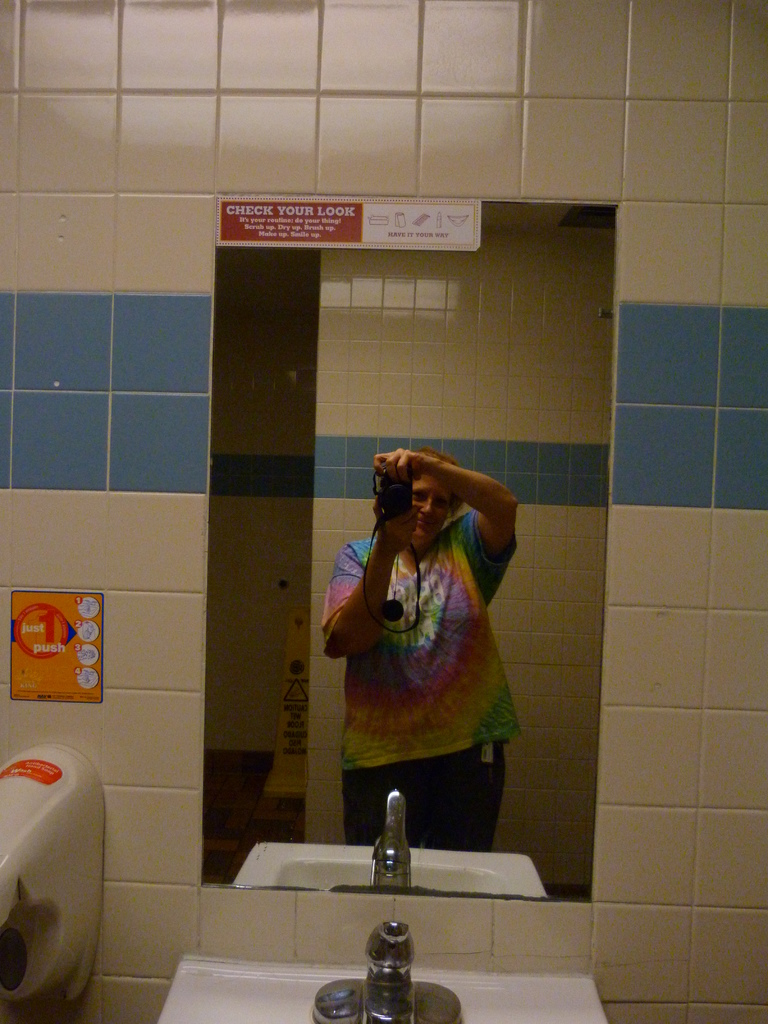tap: (369, 782, 415, 901)
